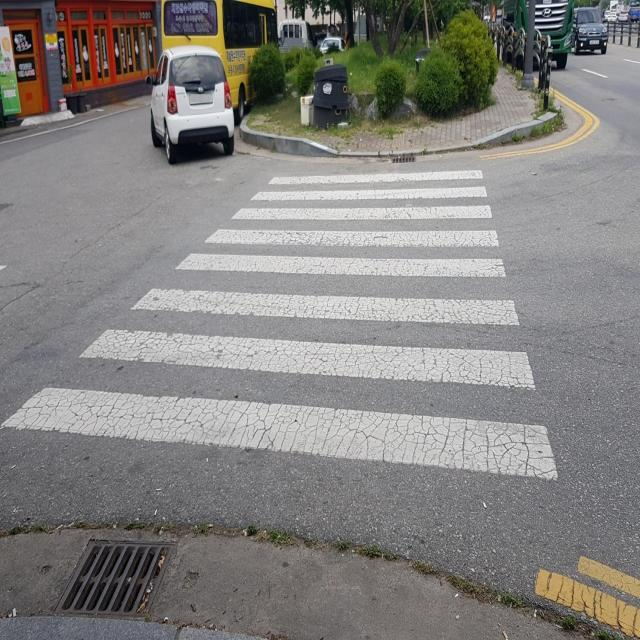횡단보도: (0, 166, 560, 483)
